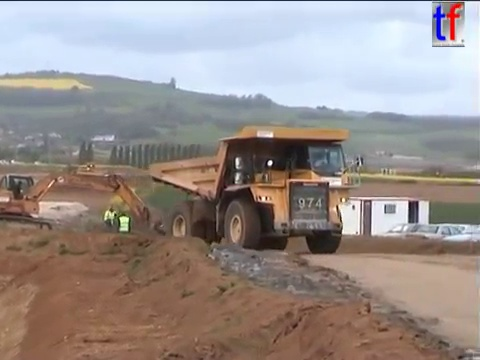excavator: (1, 168, 167, 238)
truck: (145, 123, 365, 256), (82, 160, 96, 171)
worker: (116, 210, 132, 240), (103, 203, 116, 234)
